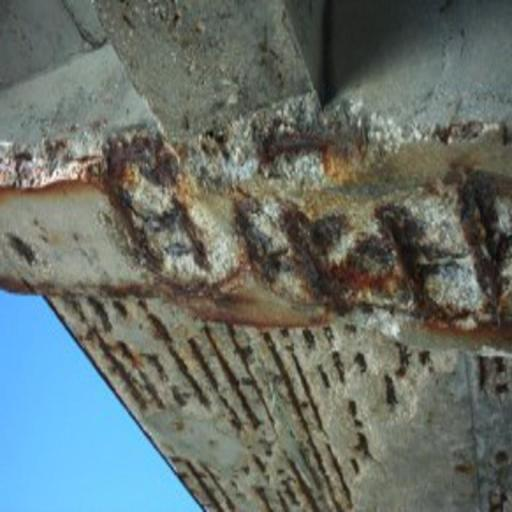spalling: (0, 129, 512, 512)
